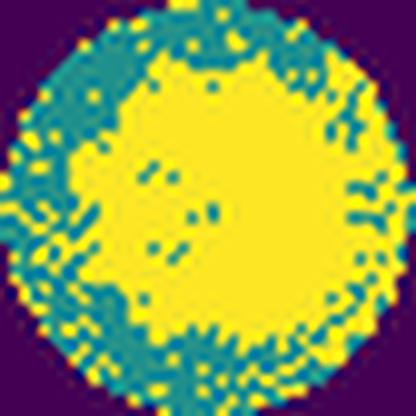Center: (68, 55, 354, 338)
